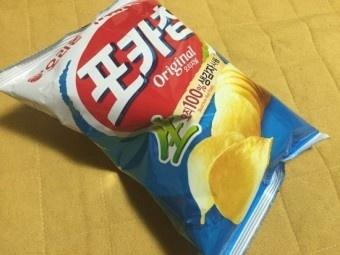snack: (0, 2, 332, 255)
